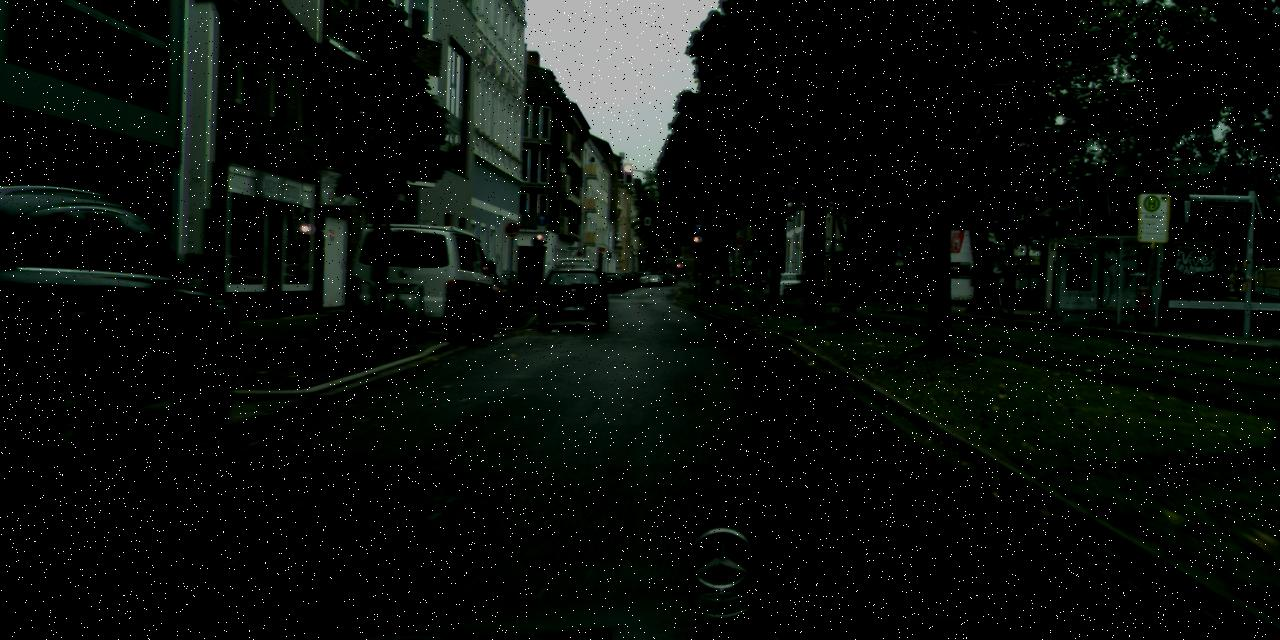ped: (999, 266, 1020, 319), (989, 274, 1003, 309)
